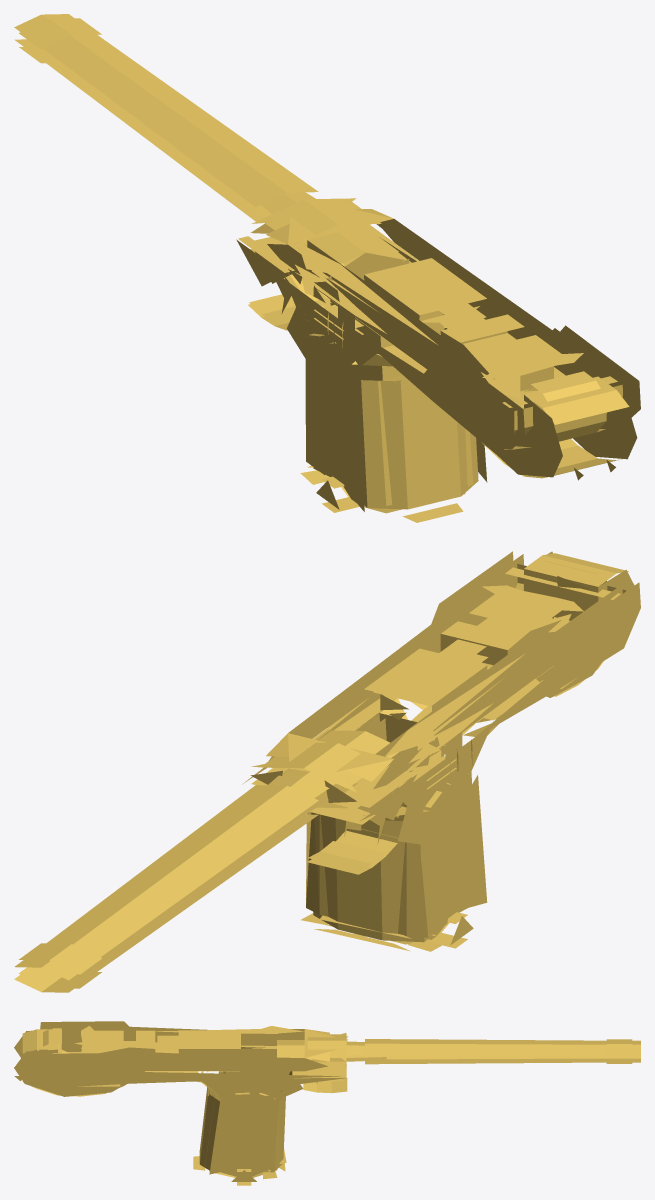
The model's file is charm_mst_pistol_8.glb.
3 renders of one model, top to bottom at view 1: azimuth 30°, elevation 25°; view 2: azimuth 150°, elevation 25°; view 3: azimuth 270°, elevation 25°, orthographic. The views are drawn at different scales.
Visible parts, largest first — view 1: p0_paint; view 2: p0_paint; view 3: p0_paint.
Part boxes in pixels (left/top/right/bottom): p0_paint: left=14, top=14, right=640, bottom=522; p0_paint: left=14, top=551, right=640, bottom=992; p0_paint: left=14, top=1021, right=640, bottom=1185.
Bounding box in the file's own units: 0.0486 × 0.0809 × 0.3488.
